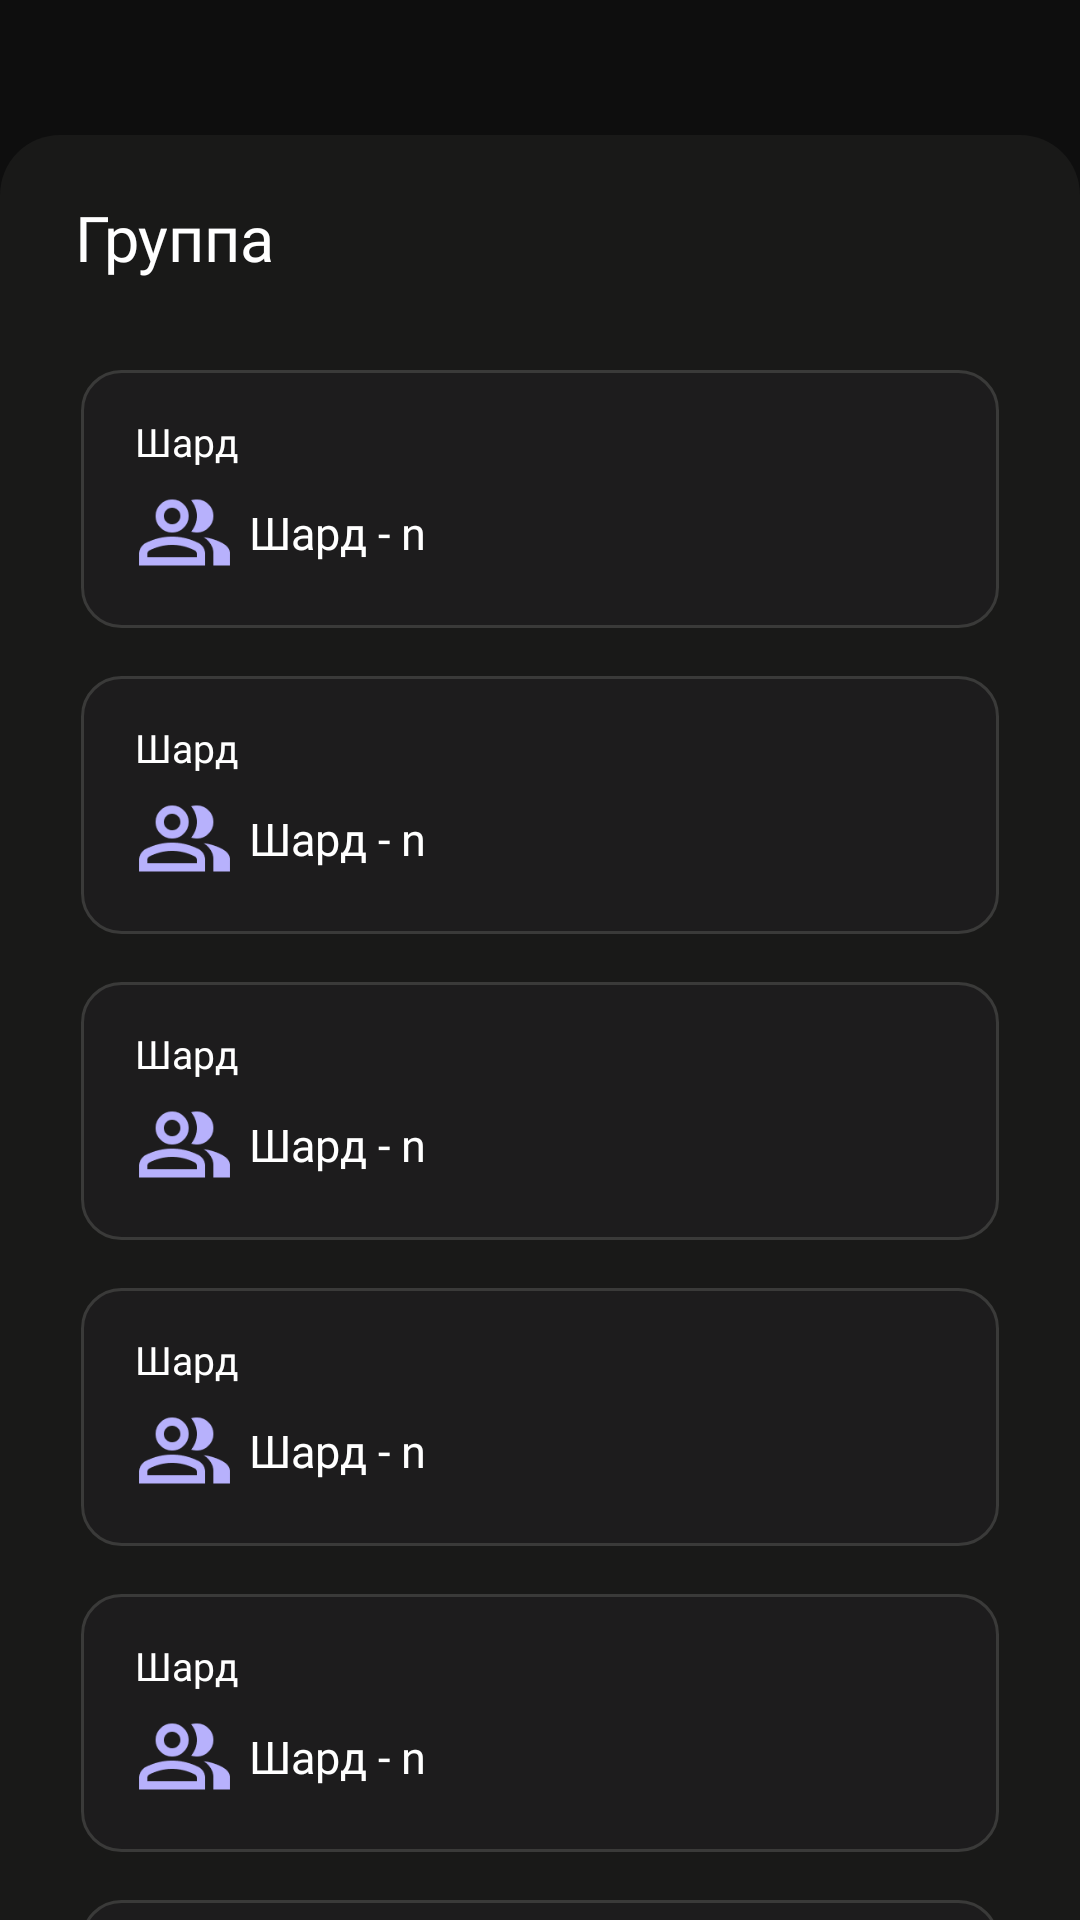

Locate icon controls on the screen. Image size 1080x1920, boxes as (left=x1, top=y1, right=x2, bottom=y2).
user group: (left=139, top=499, right=230, bottom=566), (left=139, top=805, right=230, bottom=872), (left=139, top=1111, right=230, bottom=1178), (left=139, top=1417, right=230, bottom=1484), (left=139, top=1723, right=230, bottom=1790)
